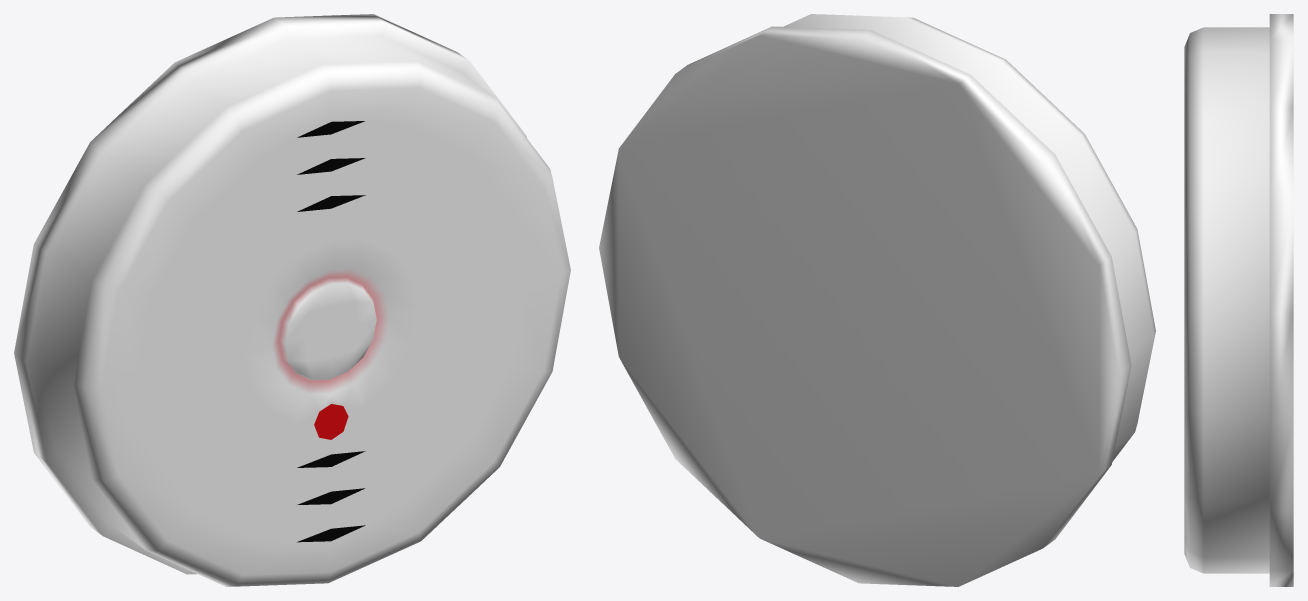
File: smoke_detector.fbx
3 renders of one model, left to right at view 1: azimuth 30°, elevation 25°; view 2: azimuth 150°, elevation 25°; view 3: azimuth 270°, elevation 25°, orthographic. The views are drawn at different scales.
Parts seen in each view (by area): view 1: Cylinder.002; view 2: Cylinder.002; view 3: Cylinder.002.
Boxes of the visible parts, x1,y1,x2,y2 form: Cylinder.002: [14, 14, 570, 586]; Cylinder.002: [599, 14, 1155, 586]; Cylinder.002: [1184, 14, 1293, 586].
Bounding box in the file's own units: 6.71 × 6.71 × 1.28.
